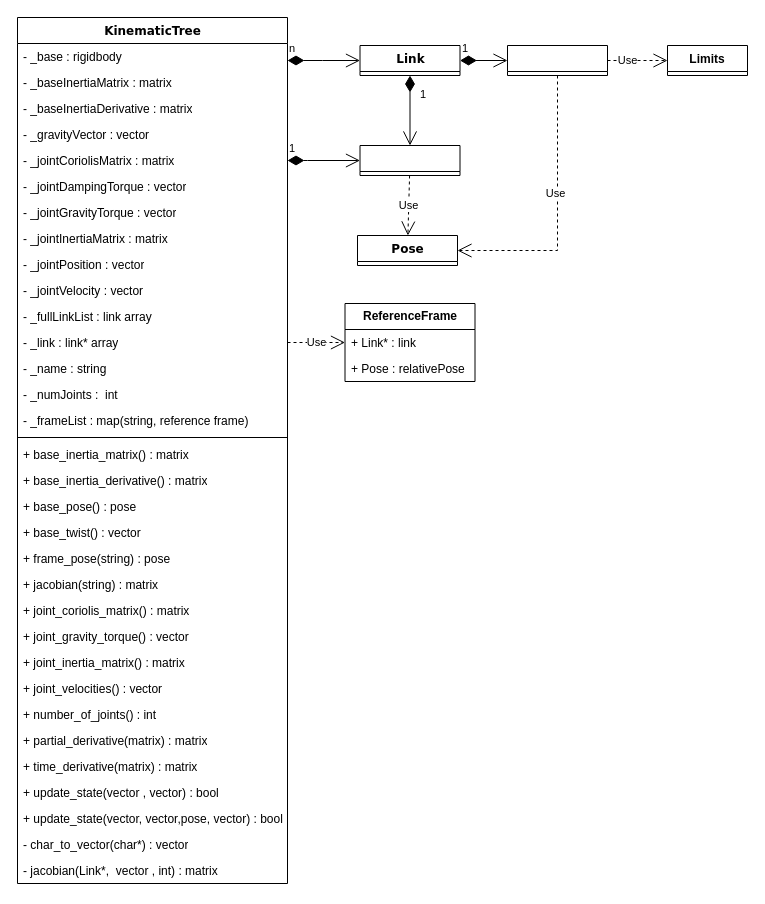
Some shapes in this 765 by 904 pixel diagram are drawn without their labels. The centre of each missing label's shape, as x and y in pixels:
"Joint" belongs at point 557,60.
"RigidBody" belongs at point 409,160.
